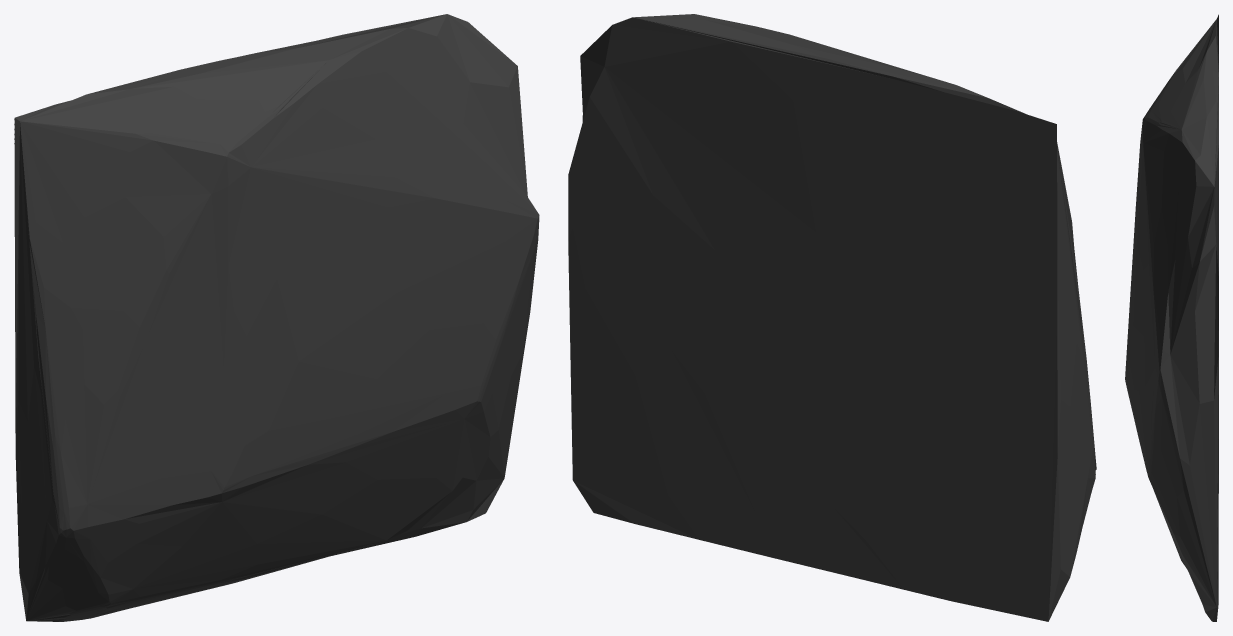
File: tmp_hill_pipeline.glb
The picture shows the model from 3 angles, left to right: view 1: azimuth 30°, elevation 25°; view 2: azimuth 150°, elevation 25°; view 3: azimuth 270°, elevation 25°; orthographic projection. The views are drawn at different scales.
Parts seen in each view (by area): view 1: body; view 2: body; view 3: body.
Part boxes in pixels (x1,y1,x2,y2): body: [14, 14, 539, 621]; body: [568, 14, 1096, 621]; body: [1125, 14, 1218, 621].
Bounding box in the file's own units: 3991 × 3986 × 796.
1 material, 1 textured.
